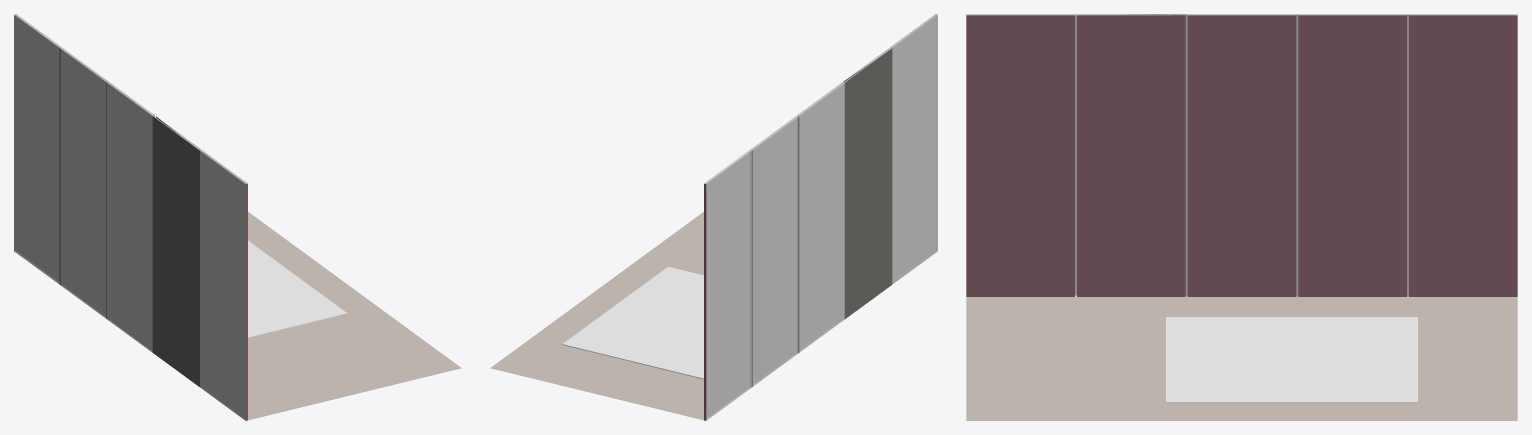
3 views of the same model, side by side, from view 1: azimuth 30°, elevation 25°; view 2: azimuth 150°, elevation 25°; view 3: azimuth 270°, elevation 25° (orthographic). The views are drawn at different scales.
Visible parts, largest first — view 1: Node44, Node55, Node36, Node26, Node34, Node32, Node38, Node4, Node29, Node33, Node13, Node30 (+1 smaller); view 2: Node44, Node55, Node36, Node26, Node34, Node32, Node4, Node38, Node29, Node33, Node14, Node28 (+1 smaller); view 3: Node55, Node9, Node7, Node8, Node10, Node11, Node4, Node44, Node30, Node29.
Part boxes in pixels (left/top/right/bottom): Node44: left=17, top=15, right=244, bottom=418; Node55: left=248, top=212, right=461, bottom=420; Node36: left=60, top=49, right=106, bottom=318; Node26: left=14, top=15, right=59, bottom=284; Node34: left=107, top=83, right=152, bottom=352; Node32: left=152, top=116, right=191, bottom=380; Node38: left=200, top=151, right=236, bottom=414; Node4: left=248, top=240, right=346, bottom=337; Node29: left=191, top=144, right=199, bottom=386; Node33: left=237, top=178, right=245, bottom=420; Node13: left=245, top=183, right=247, bottom=420; Node30: left=59, top=48, right=60, bottom=284; Node44: left=705, top=16, right=937, bottom=416; Node55: left=490, top=212, right=703, bottom=420; Node36: left=752, top=117, right=798, bottom=386; Node26: left=706, top=151, right=751, bottom=420; Node34: left=799, top=83, right=844, bottom=352; Node32: left=845, top=54, right=883, bottom=318; Node4: left=563, top=266, right=703, bottom=378; Node38: left=892, top=21, right=929, bottom=284; Node29: left=883, top=48, right=892, bottom=290; Node33: left=929, top=15, right=937, bottom=257; Node14: left=704, top=183, right=706, bottom=420; Node28: left=798, top=116, right=799, bottom=353; Node55: left=966, top=296, right=1517, bottom=420; Node9: left=1187, top=15, right=1296, bottom=296; Node7: left=966, top=15, right=1074, bottom=296; Node8: left=1077, top=15, right=1185, bottom=296; Node10: left=1298, top=15, right=1406, bottom=296; Node11: left=1409, top=15, right=1517, bottom=296; Node4: left=1166, top=317, right=1417, bottom=402; Node44: left=967, top=14, right=1408, bottom=296; Node30: left=1407, top=14, right=1408, bottom=294; Node29: left=1075, top=16, right=1076, bottom=294.
Bounding box in the file's own units: 108 × 113 × 200.
